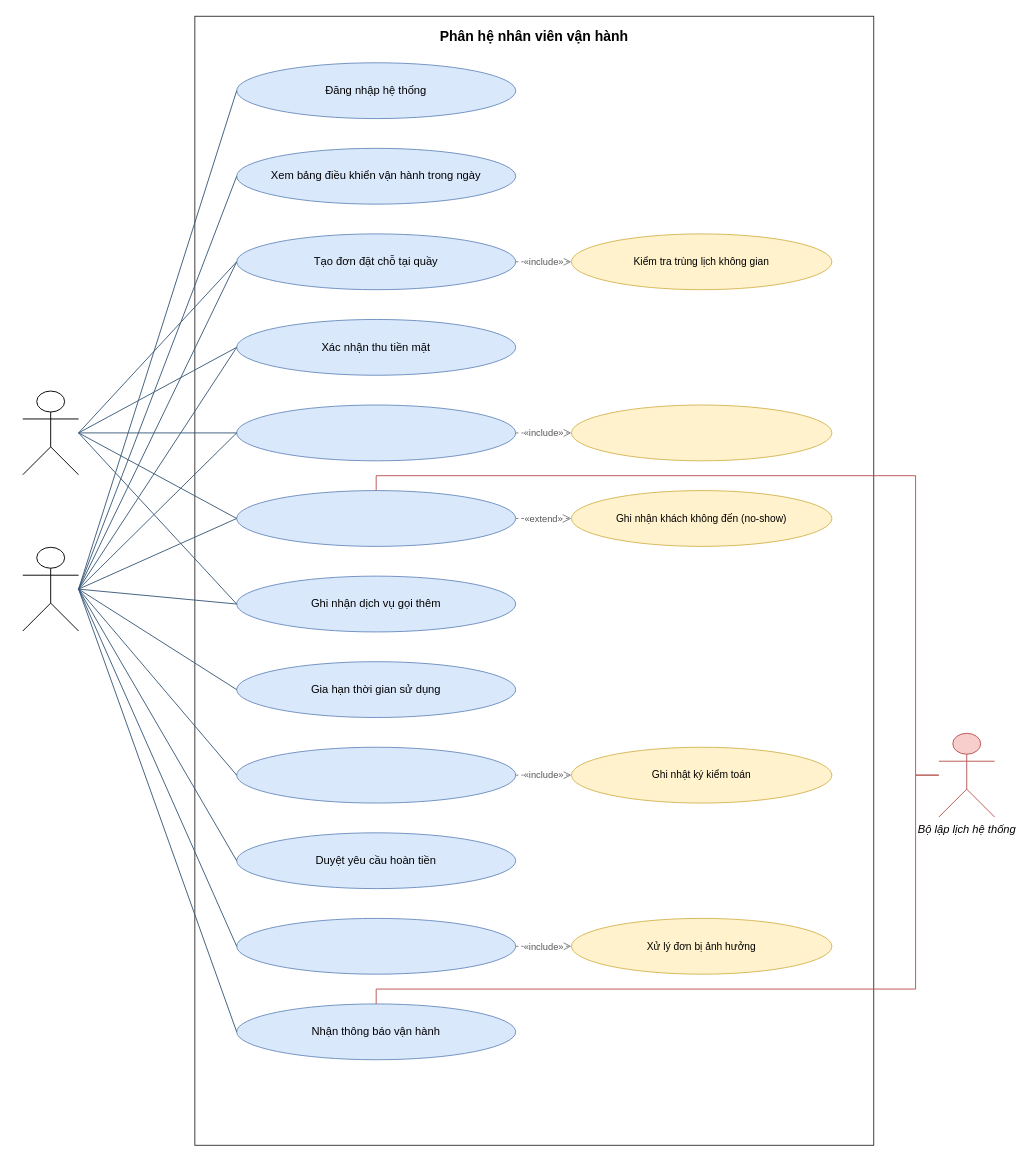
This 1031x1162 diagram has some shape labels left out. The centre of each missing label's shape, as x and y in pixels:
"Check-in cho khách" belongs at [376,432].
"Check-out cho khách" belongs at [376,518].
"Hủy đơn thay khách hàng" belongs at [376,774].
"Khách hàng" belongs at [50,432].
"Nhân viên" belongs at [50,588].
"Tạo và theo dõi lịch bảo trì" belongs at [376,945].
"Xác thực mã đặt chỗ" belongs at [701,432].
